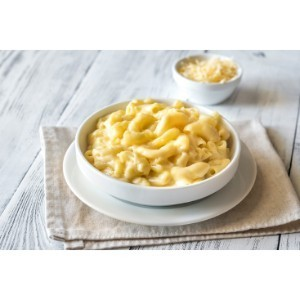cheese_brain food: (101, 113, 216, 172), (177, 60, 239, 87)
